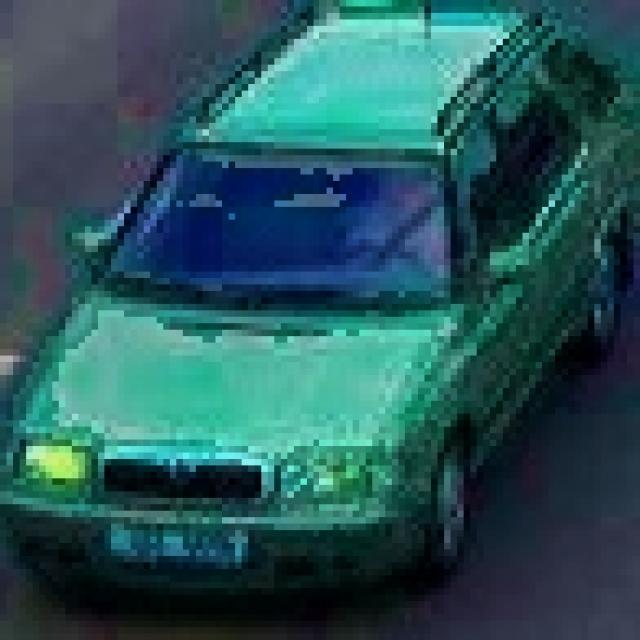green: (0, 6, 634, 607)
